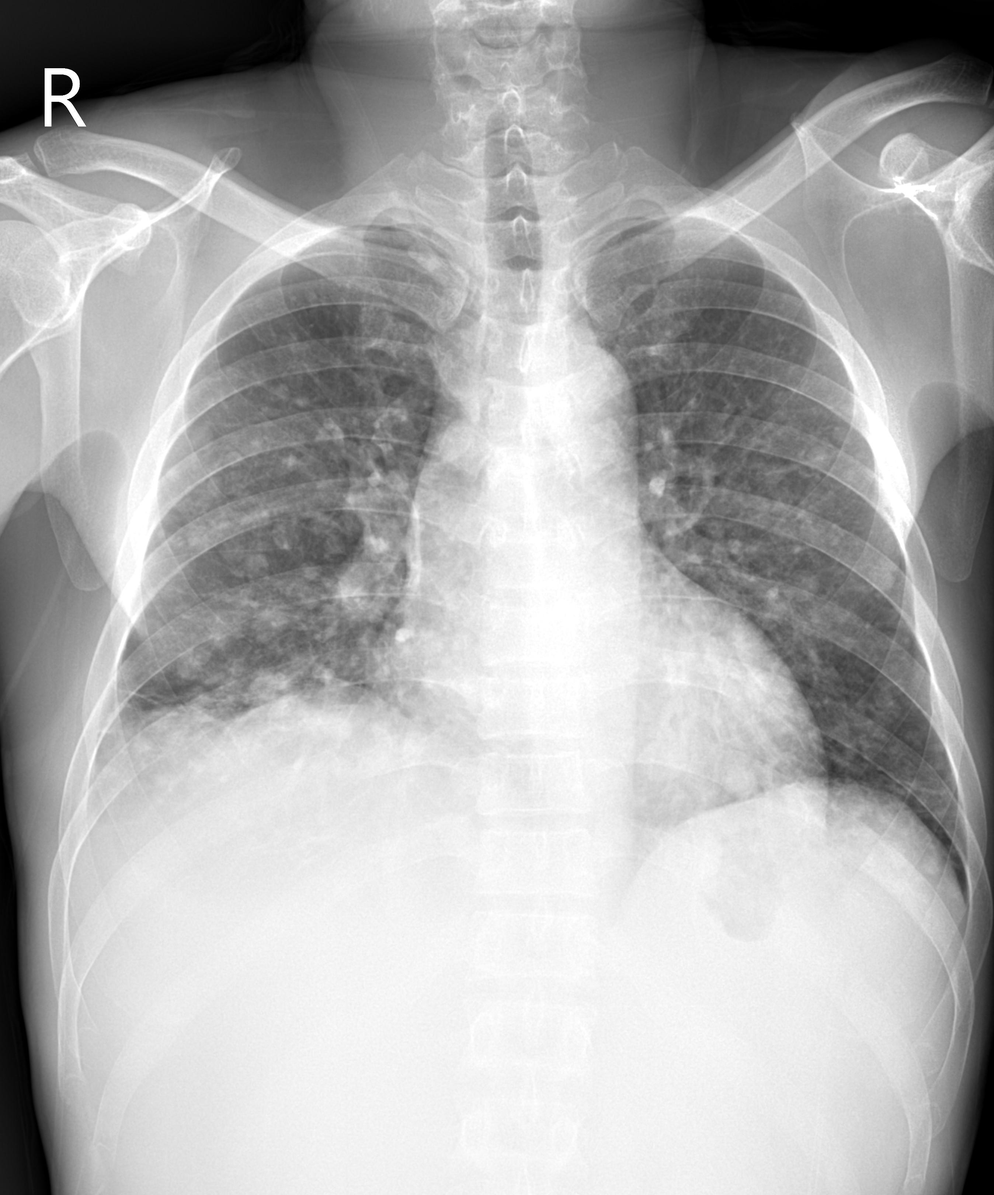Aortic enlargement: (433, 346, 633, 499)
